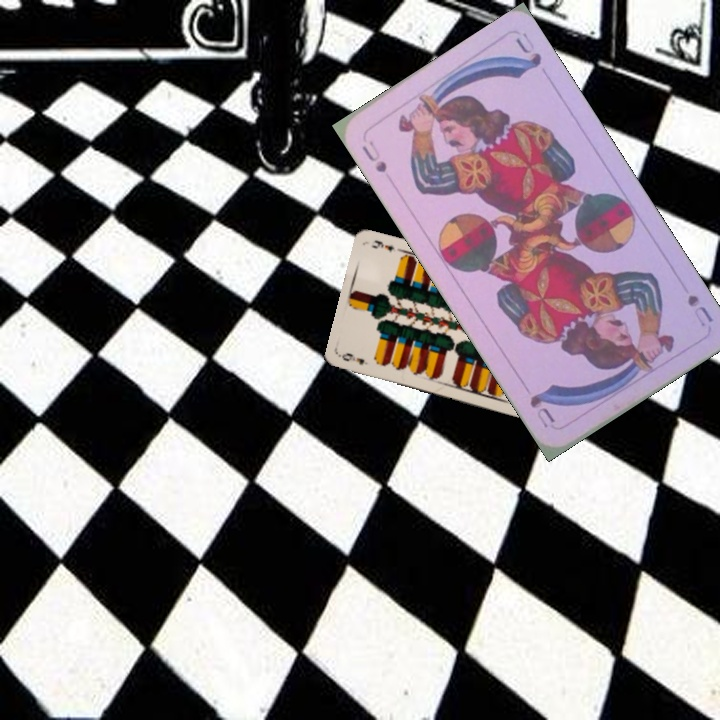E9: (338, 349, 370, 367)
SU: (683, 290, 716, 329), (358, 136, 390, 176)
